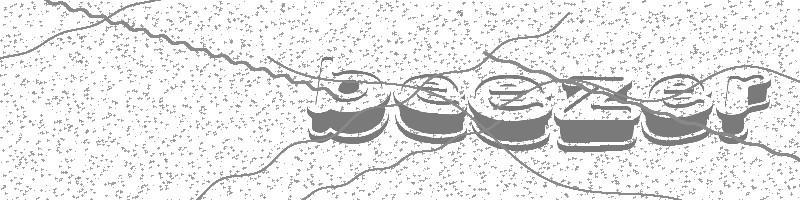b: (305, 51, 391, 146)
e: (468, 74, 551, 151), (391, 70, 471, 145), (644, 74, 714, 146), (718, 72, 776, 144)
z: (558, 72, 642, 154)
